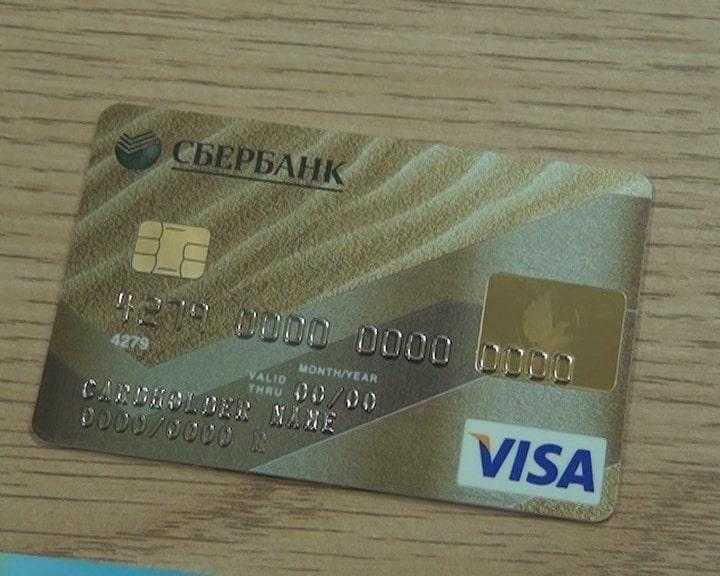card: (28, 99, 654, 537)
